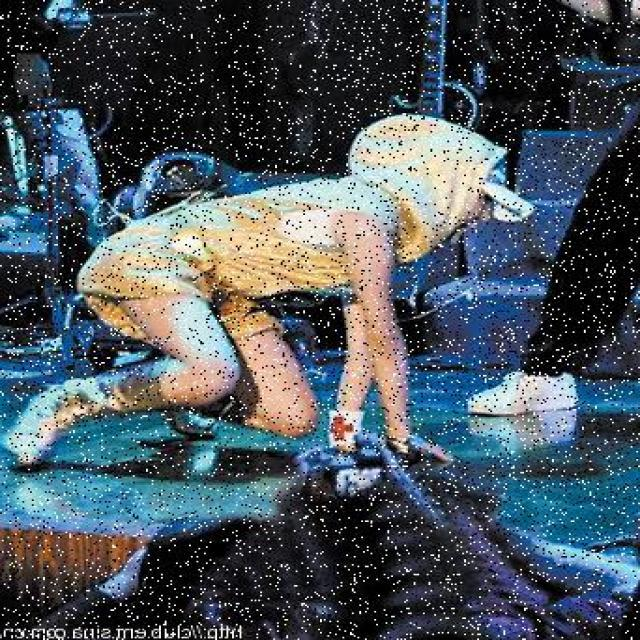fall: (21, 147, 477, 449)
